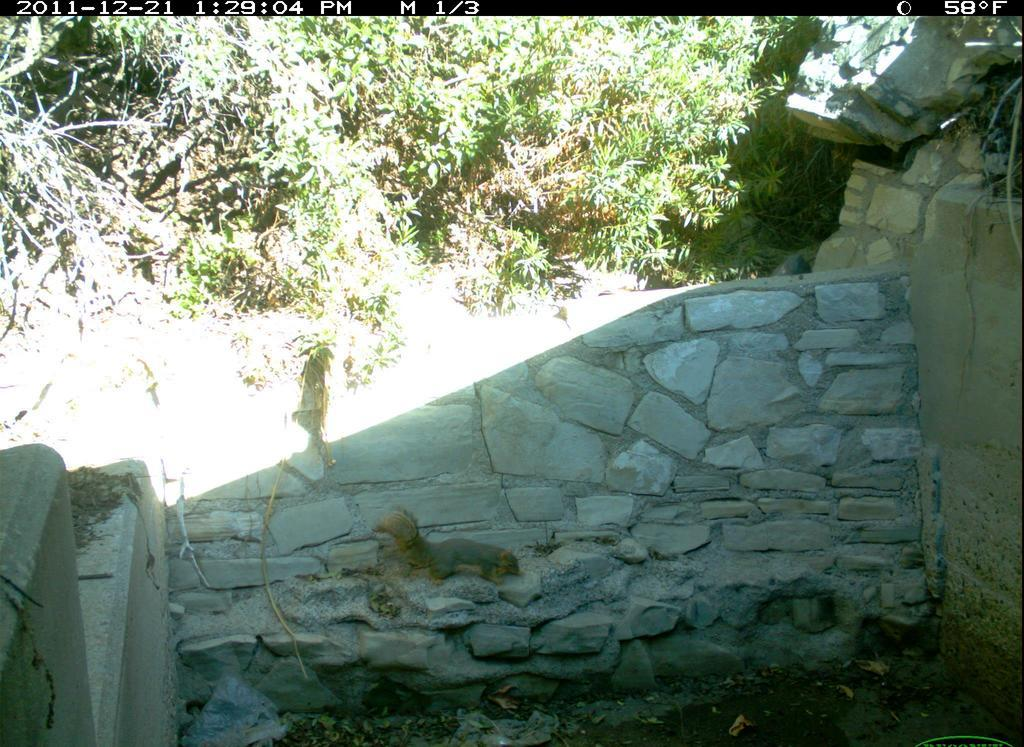squirrel: (368, 492, 536, 593)
